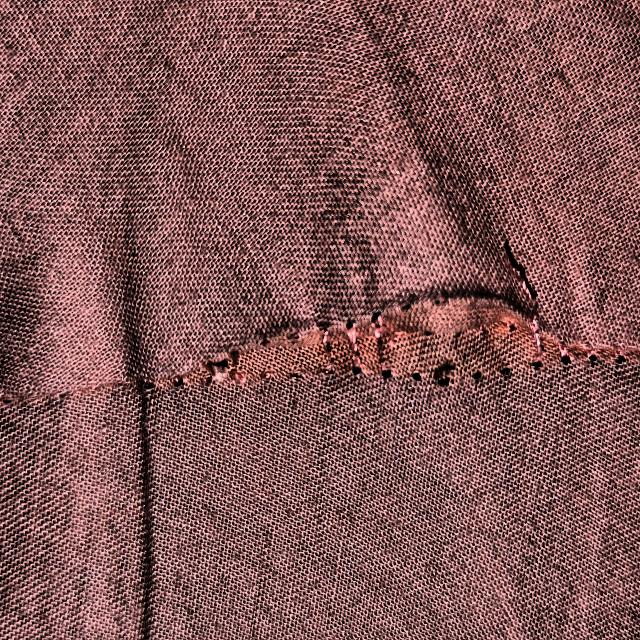seam: (170, 254, 614, 422)
